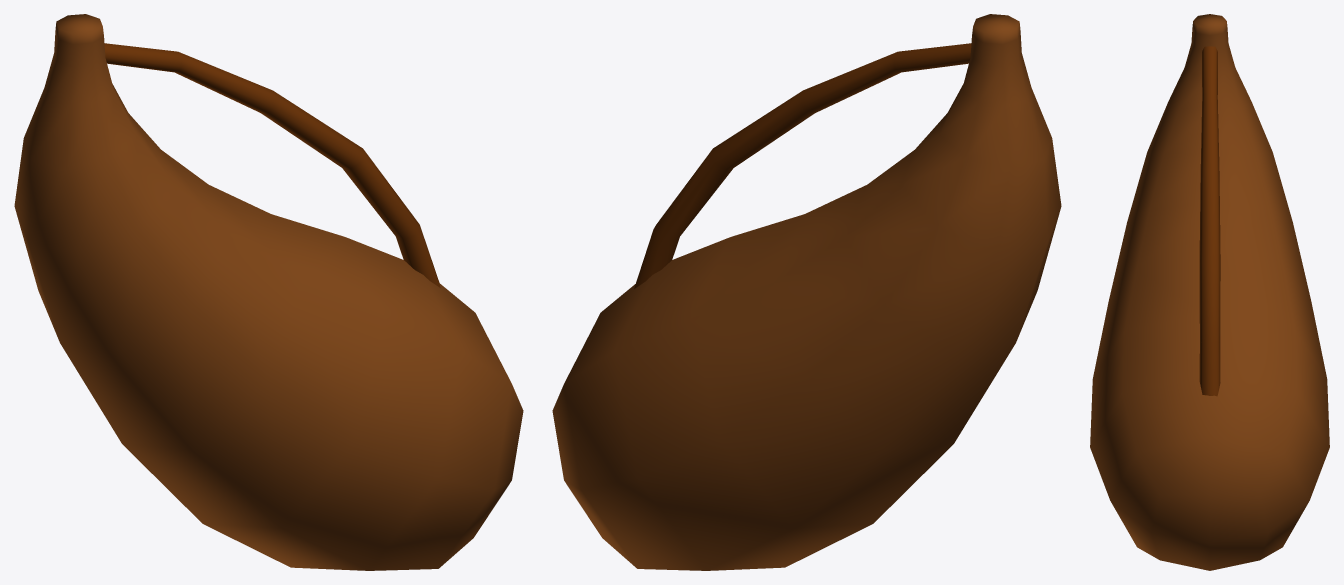
The model's file is LeatherPouch.fbx.
3 views of the same model, side by side, from view 1: azimuth 30°, elevation 25°; view 2: azimuth 150°, elevation 25°; view 3: azimuth 270°, elevation 25° (orthographic). The views are drawn at different scales.
Parts seen in each view (by area): view 1: LeatherPouch; view 2: LeatherPouch; view 3: LeatherPouch.
Part boxes in pixels (box(x1,y1,x2,y2)): LeatherPouch: box(14, 14, 523, 570); LeatherPouch: box(552, 14, 1061, 570); LeatherPouch: box(1090, 14, 1329, 570).
Bounding box in the file's own units: 24.36 × 30.34 × 14.93.
